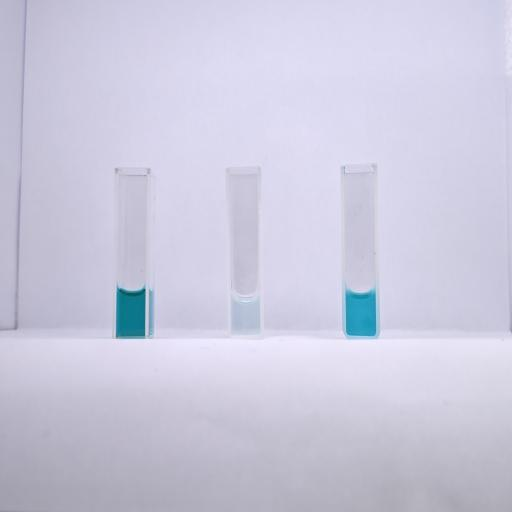cuvette: (339, 162, 380, 340), (224, 164, 264, 340), (112, 165, 152, 339)
liquid: (346, 287, 376, 336), (117, 288, 145, 336), (232, 292, 260, 334)
